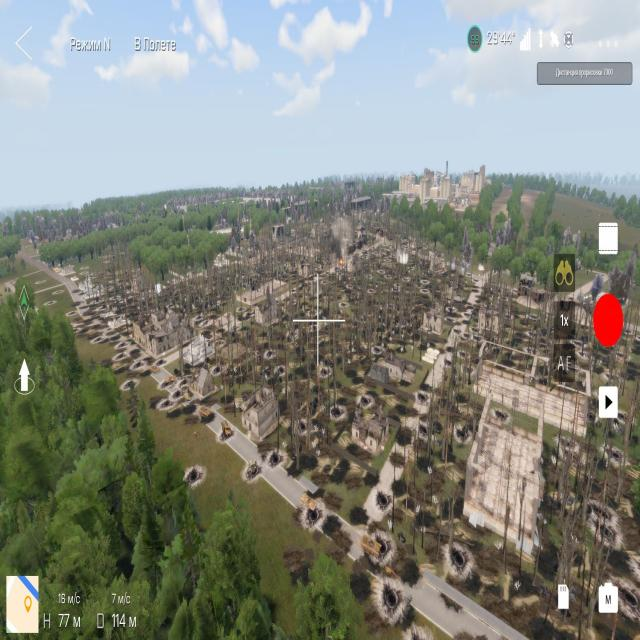fortification: (466, 394, 543, 545), (472, 329, 592, 424), (240, 380, 300, 444), (128, 312, 197, 356), (352, 406, 397, 468), (252, 291, 289, 338), (372, 353, 414, 390), (518, 272, 551, 317), (421, 304, 453, 338), (186, 364, 217, 395), (426, 248, 452, 278)
vehicle: (360, 528, 386, 563), (296, 489, 322, 517), (242, 453, 264, 480), (195, 401, 212, 427), (220, 419, 235, 447), (163, 374, 177, 388), (148, 362, 160, 375), (184, 390, 193, 404)
